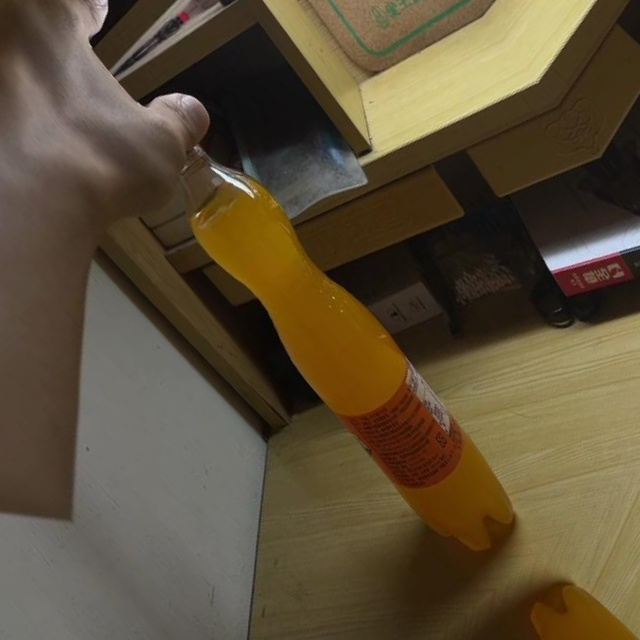Fanta: (102, 78, 539, 573)
